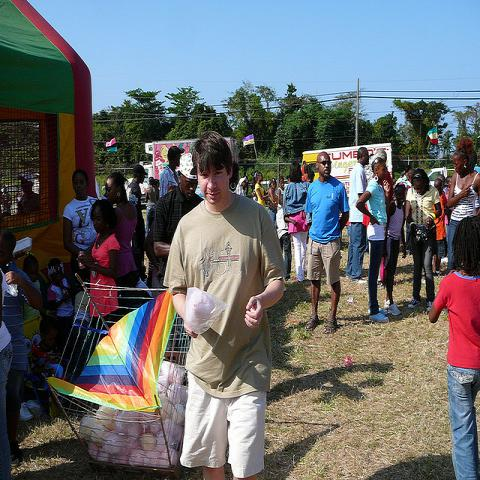car: (429, 172, 440, 181)
